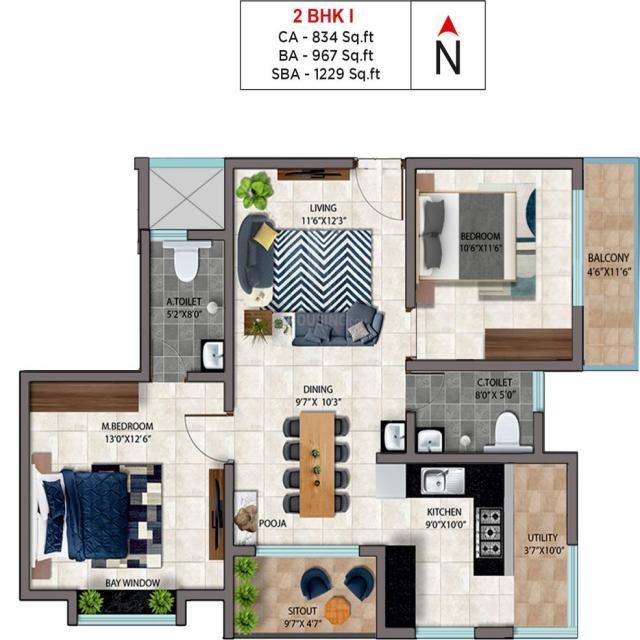Balcony-Sitout: (229, 550, 383, 634), (580, 165, 636, 374)
Bedroom: (407, 168, 575, 365)
Bedroom with Toilet: (22, 227, 233, 599)
Dining: (277, 405, 357, 525)
Enterance-Foyer: (352, 159, 407, 222)
Kitchen: (405, 468, 503, 630)
Living: (238, 165, 404, 353)
Toilet: (150, 238, 223, 378), (405, 375, 543, 449)
Utility: (514, 467, 569, 631)
